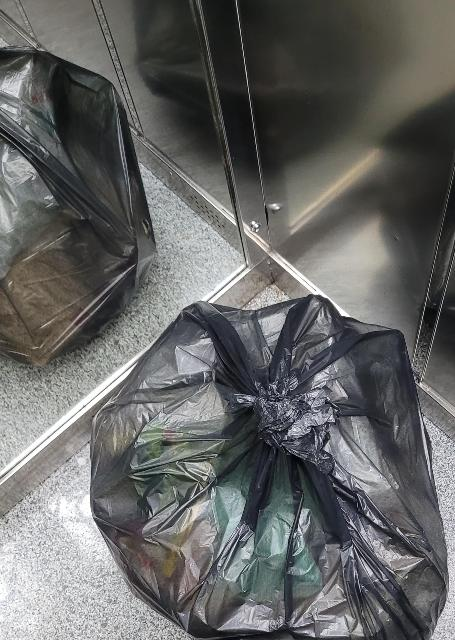Plastik: (86, 296, 455, 640)
